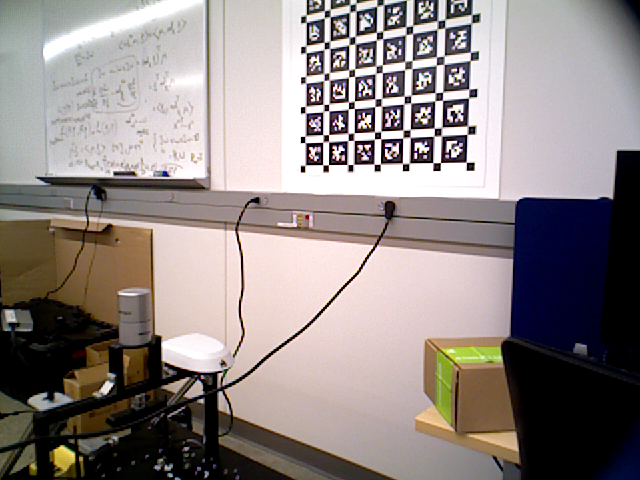painting4: (283, 1, 500, 200)
